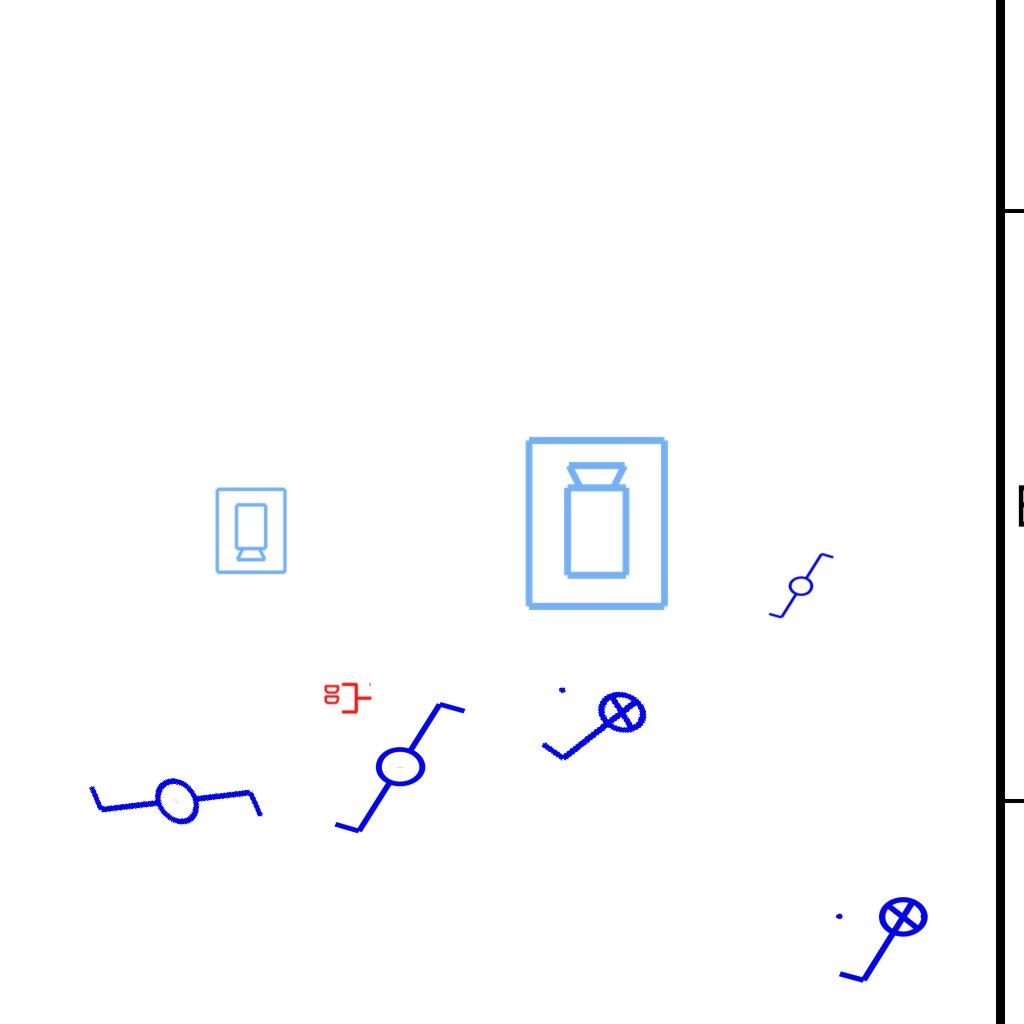Ausschalter_beleuchtet: (527, 666, 667, 796), (830, 895, 942, 991)
Datenanschluss_zweifach: (322, 682, 373, 716)
KFO_Kamera_mit_Festobjektiv: (521, 433, 675, 615), (212, 485, 289, 576)
Wechselschalter: (75, 702, 286, 916), (330, 697, 487, 841), (758, 549, 836, 621)
